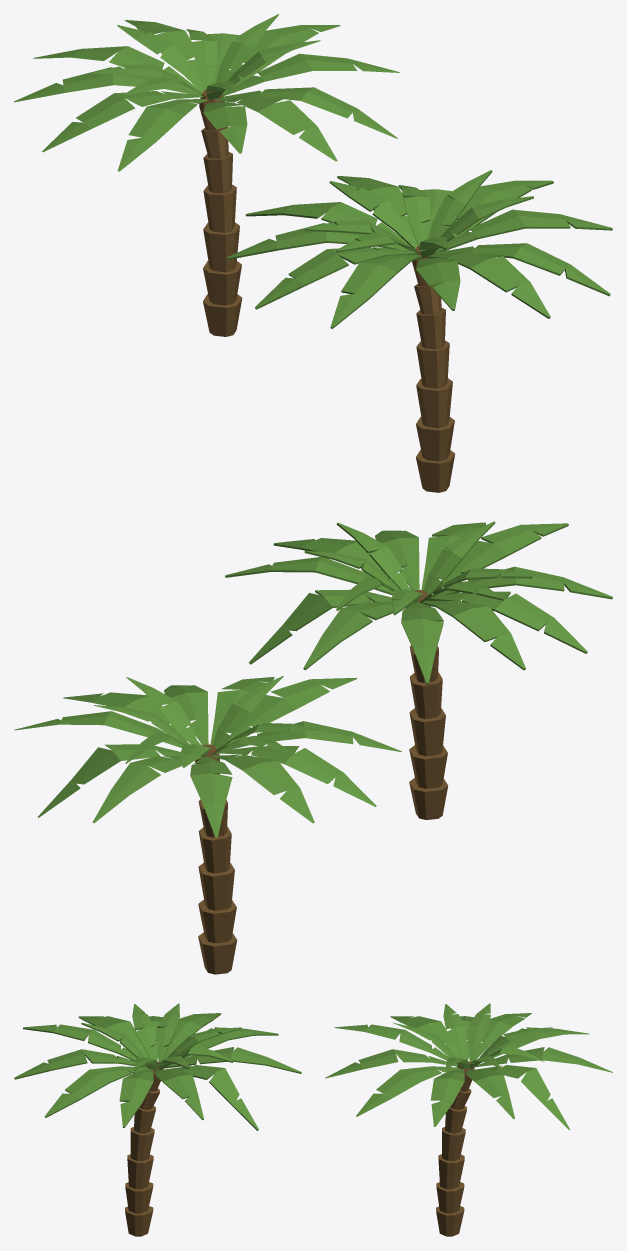
The model's file is LP small Palm tree .fbx.
3 renders of one model, top to bottom at view 1: azimuth 30°, elevation 25°; view 2: azimuth 150°, elevation 25°; view 3: azimuth 270°, elevation 25°, orthographic. The views are drawn at different scales.
Visible parts, largest first — view 1: Palm Tree S T, Palm Tree S; view 2: Palm Tree S T, Palm Tree S; view 3: Palm Tree S T, Palm Tree S.
Boxes of the visible parts, box(x1,y1,x2,y2) form: Palm Tree S T: box(227, 170, 612, 492); Palm Tree S: box(14, 14, 399, 336); Palm Tree S T: box(225, 521, 612, 819); Palm Tree S: box(14, 676, 401, 974); Palm Tree S T: box(14, 1003, 301, 1236); Palm Tree S: box(325, 1003, 612, 1236).
Size of the model in its own units: 702 by 545 by 1479.
